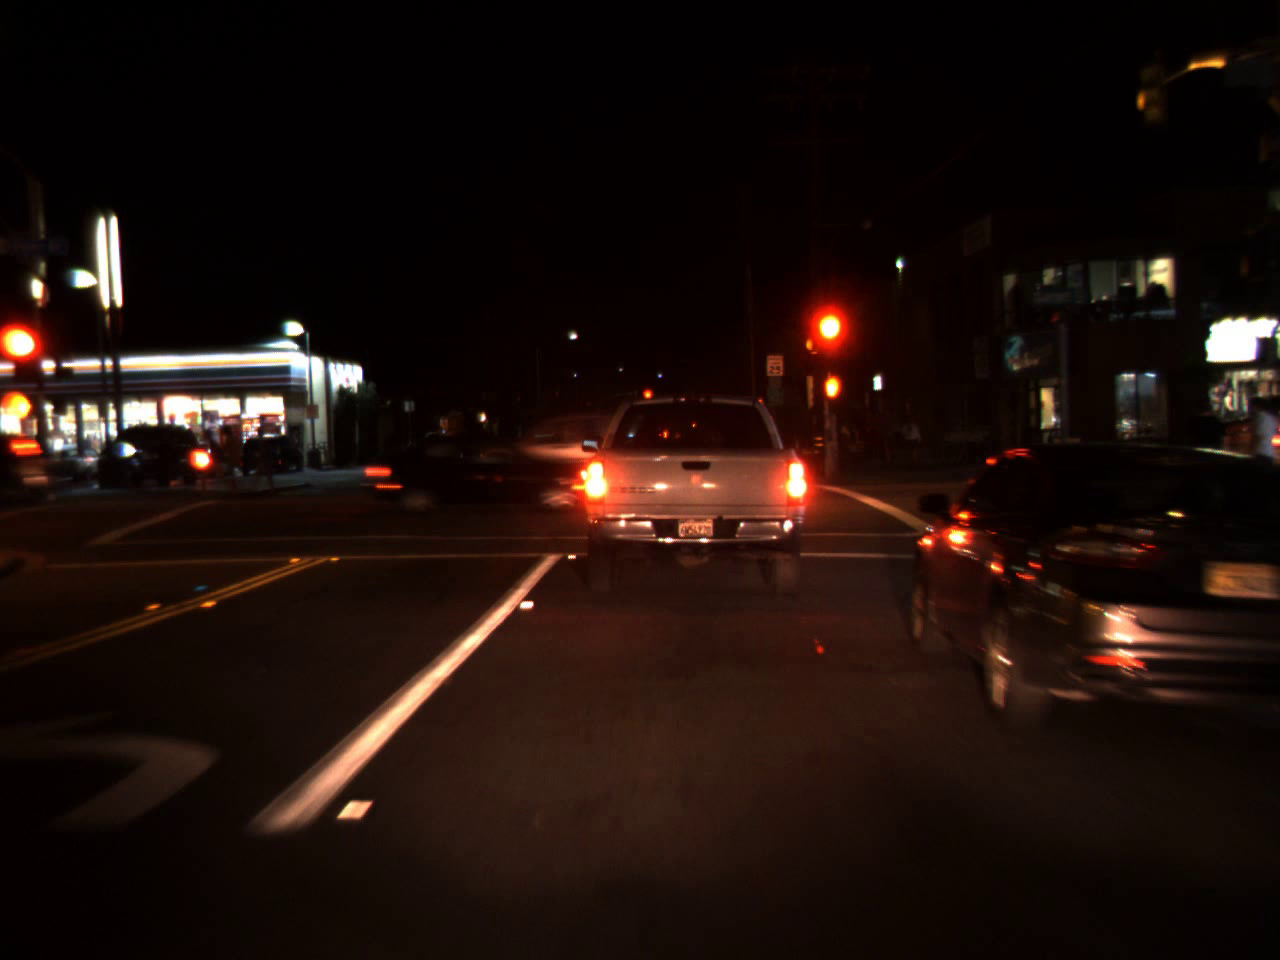stop: (0, 323, 35, 393), (811, 307, 845, 374), (642, 388, 654, 409)
